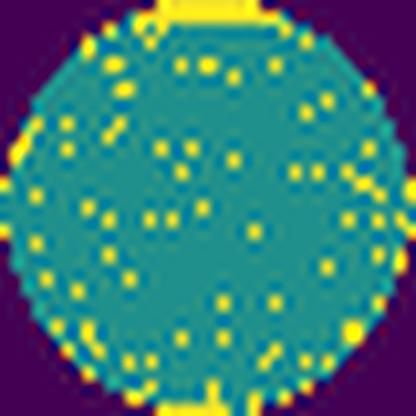Edge-Loc: (120, 0, 301, 33), (148, 394, 233, 416)
